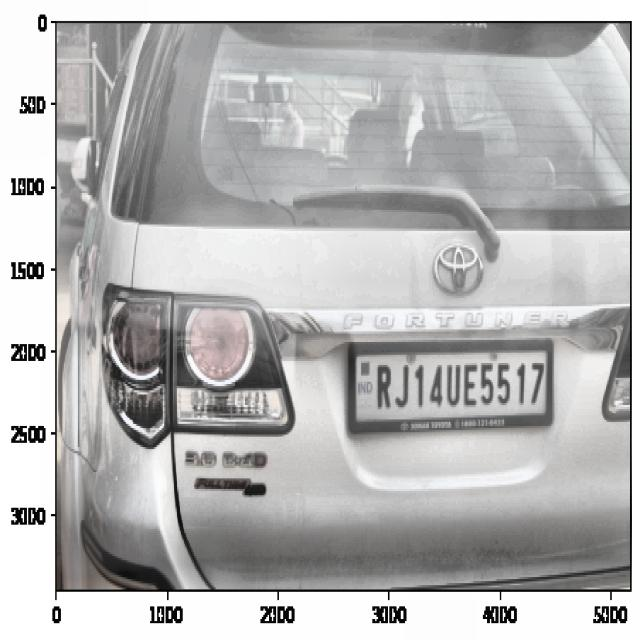license_plate: (368, 350, 549, 417)
